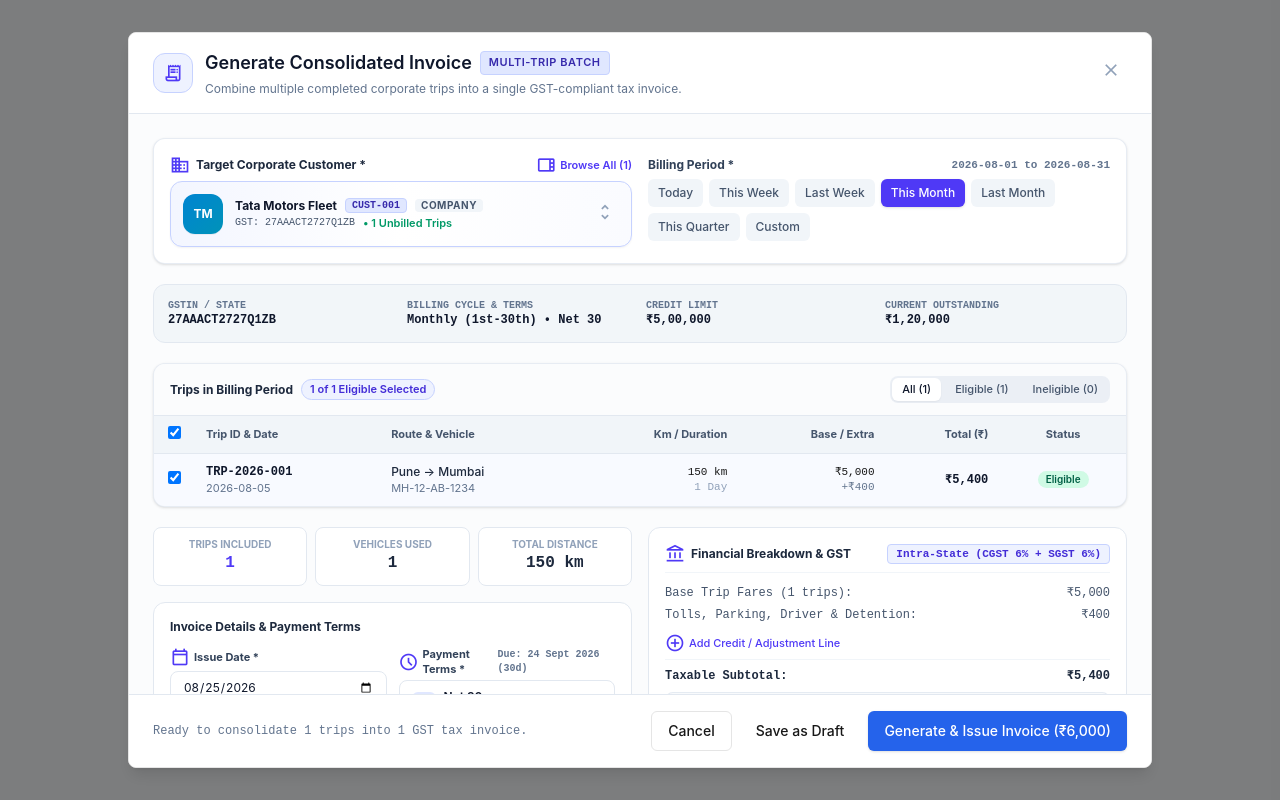
Scenario: ConsolidatedInvoiceModal › can select all eligible trips
The image size is (1280, 800).
Click the checkbox named "Select all eligible trips". click: [174, 432]
box: [168,426,180,439]
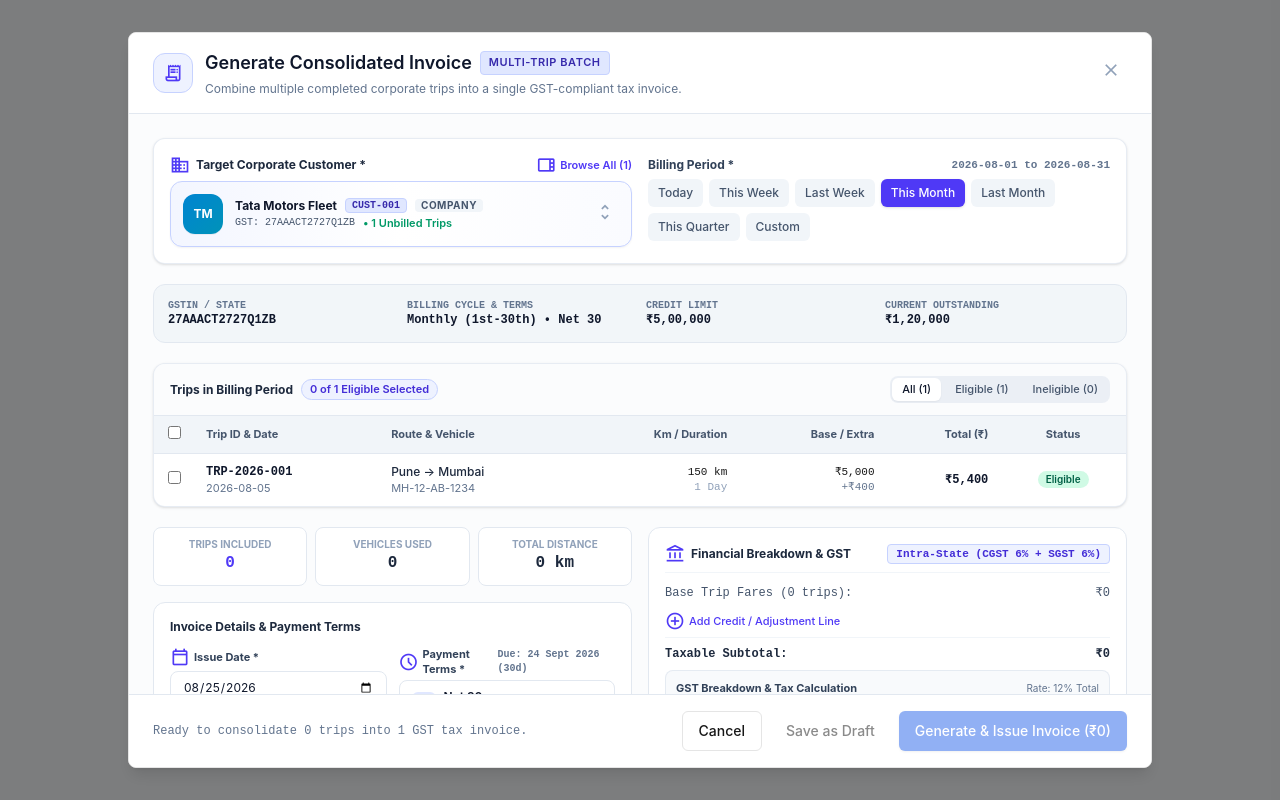
Now the checkbox named "Select all eligible trips" is not checked
Now the text "0 of 1 Eligible Selected" is shown, box [301,379,438,400]
Click the checkbox named "Select all eligible trips". click: [174, 432]
box: [168,426,180,439]
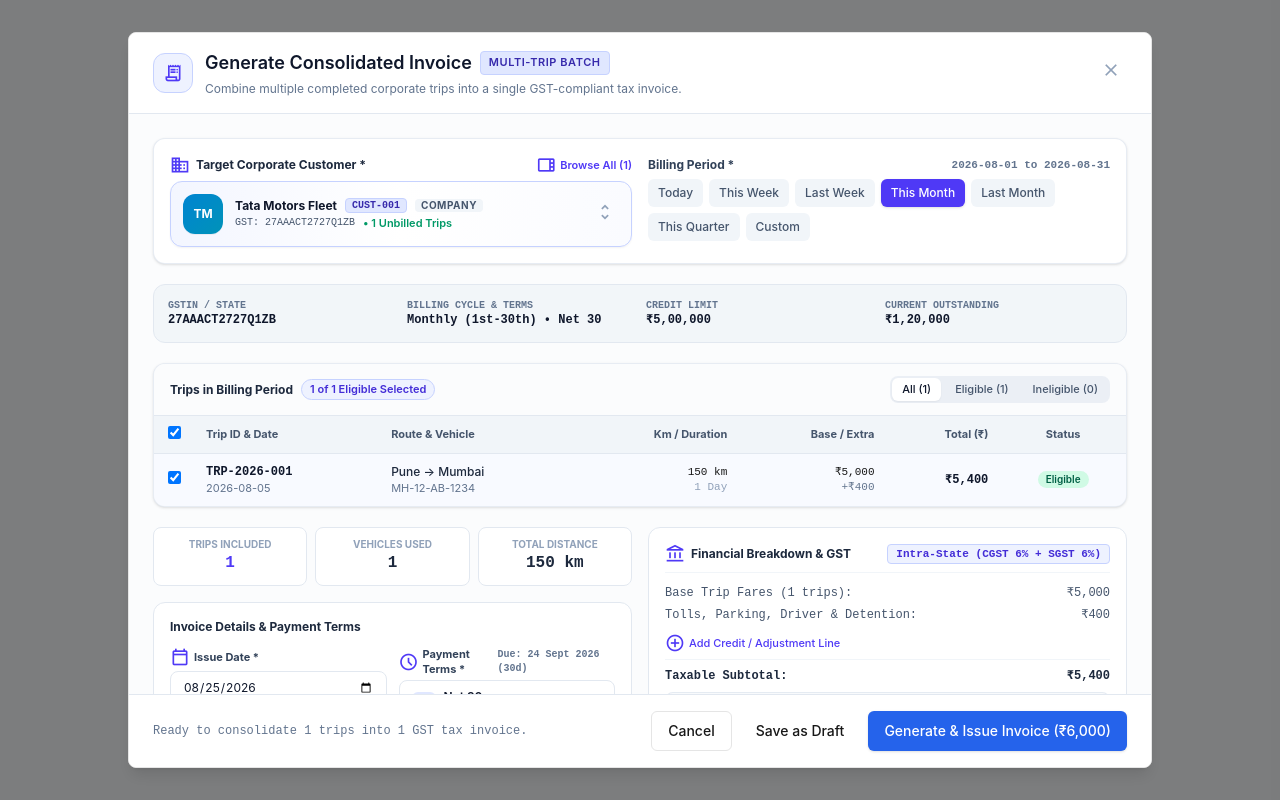
Now the checkbox named "Select all eligible trips" is checked, box [168,426,180,439]
Now the text "1 of 1 Eligible Selected" is shown, box [301,379,435,400]
